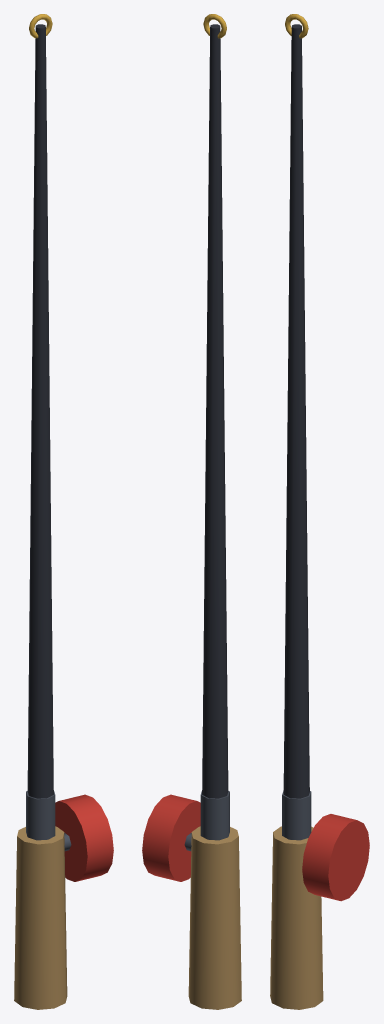
File: prop_tool_rod_ph.glb
3 renders of one model, left to right at view 1: azimuth 30°, elevation 25°; view 2: azimuth 150°, elevation 25°; view 3: azimuth 330°, elevation 25°, orthographic.
Parts seen in each view (by area): view 1: prop_tool_rod; view 2: prop_tool_rod; view 3: prop_tool_rod.
Boxes of the visible parts, x1,y1,x2,y2 form: prop_tool_rod: [14, 14, 113, 1009]; prop_tool_rod: [142, 14, 241, 1009]; prop_tool_rod: [270, 14, 369, 1009].
Bounding box in the file's own units: 0.1142 × 1.44 × 0.11.
